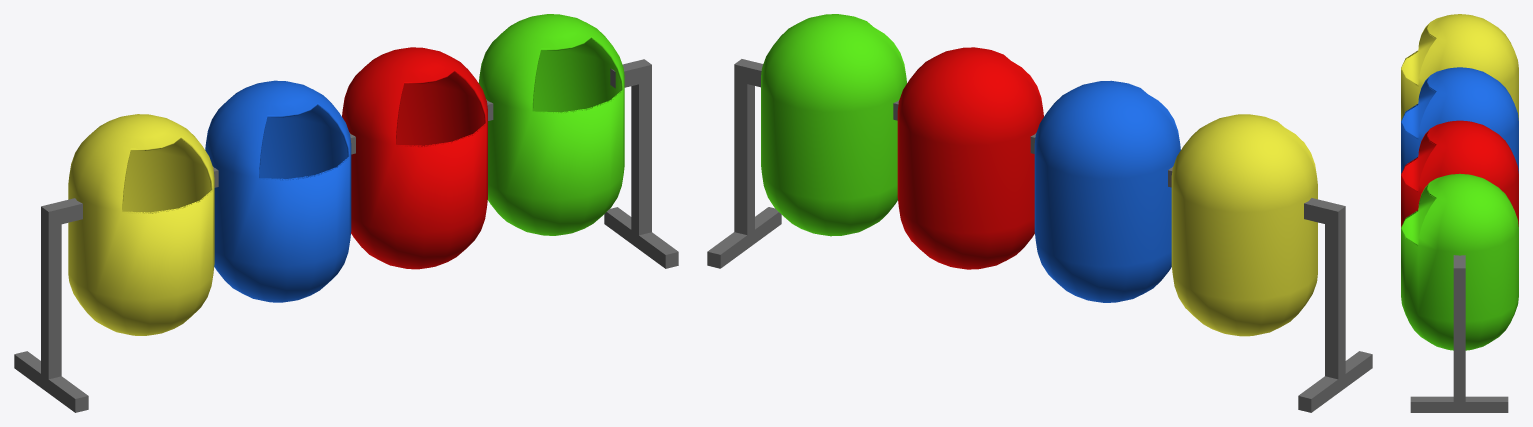
The model's file is lixeiras.fbx.
The picture shows the model from 3 angles, left to right: view 1: azimuth 30°, elevation 25°; view 2: azimuth 150°, elevation 25°; view 3: azimuth 270°, elevation 25°; orthographic projection. The views are drawn at different scales.
Parts seen in each view (by area): view 1: lixeiras; view 2: lixeiras; view 3: lixeiras.
Part boxes in pixels (x1=…): lixeiras: x1=14, y1=14, x2=678, y2=412; lixeiras: x1=707, y1=14, x2=1372, y2=412; lixeiras: x1=1401, y1=14, x2=1518, y2=412.
Size of the model in its own units: 161 by 62.46 by 34.02.
